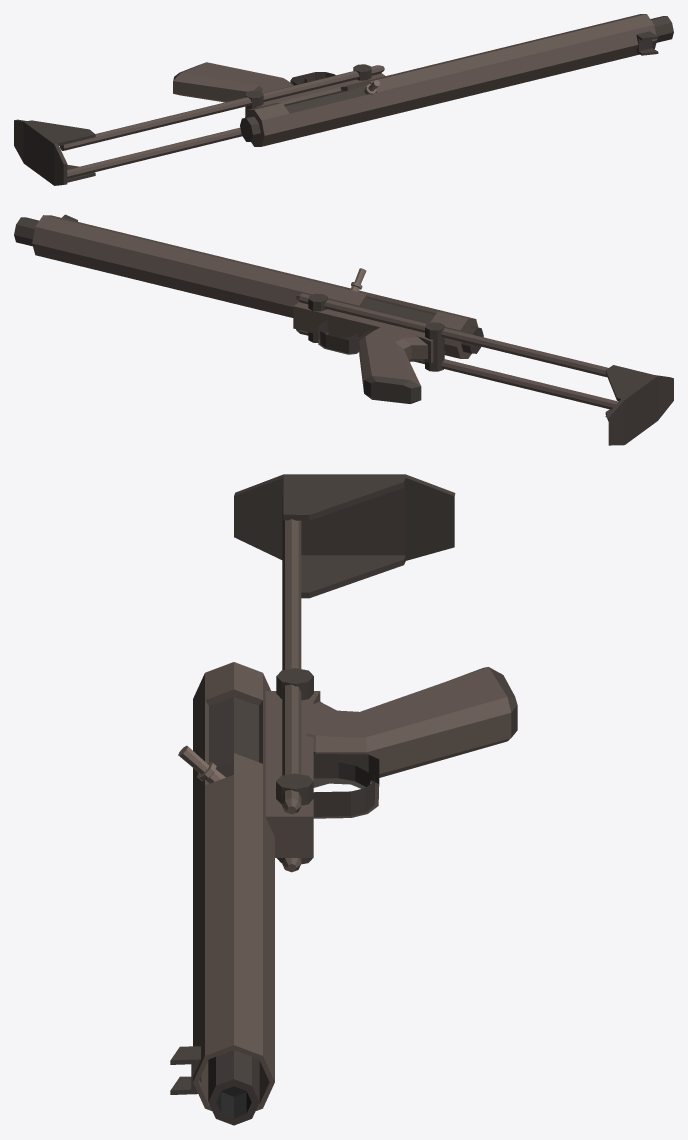
The model's file is Terminator_3D.glb.
3 renders of one model, top to bottom at view 1: azimuth 30°, elevation 25°; view 2: azimuth 150°, elevation 25°; view 3: azimuth 270°, elevation 25°, orthographic. The views are drawn at different scales.
Visible parts, largest first — view 1: cobrayTerminator (1); view 2: cobrayTerminator (1); view 3: cobrayTerminator (1).
Boxes of the visible parts, x1,y1,x2,y2 form: cobrayTerminator (1): (14, 14, 673, 185); cobrayTerminator (1): (14, 214, 673, 445); cobrayTerminator (1): (170, 474, 517, 1125).
Bounding box in the file's own units: 0.8541 × 0.0688 × 0.2127.
Materials: 1 (1 with a texture image).
